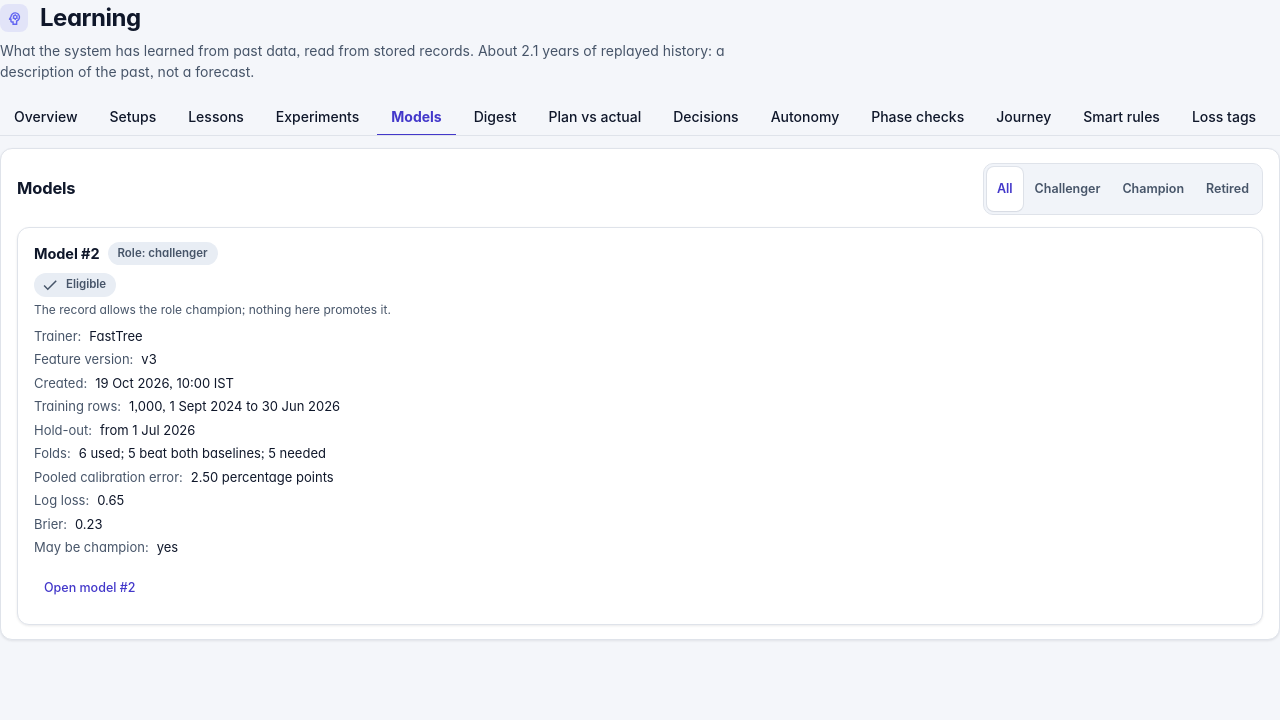
Scenario: Learning, Models tab › opens a model: report, labelled calibration map, importance, designations and limits
Click the button "Open model #2" at (90, 588), box top-left (34, 566), bottom-right (145, 610)
(page scrolled)
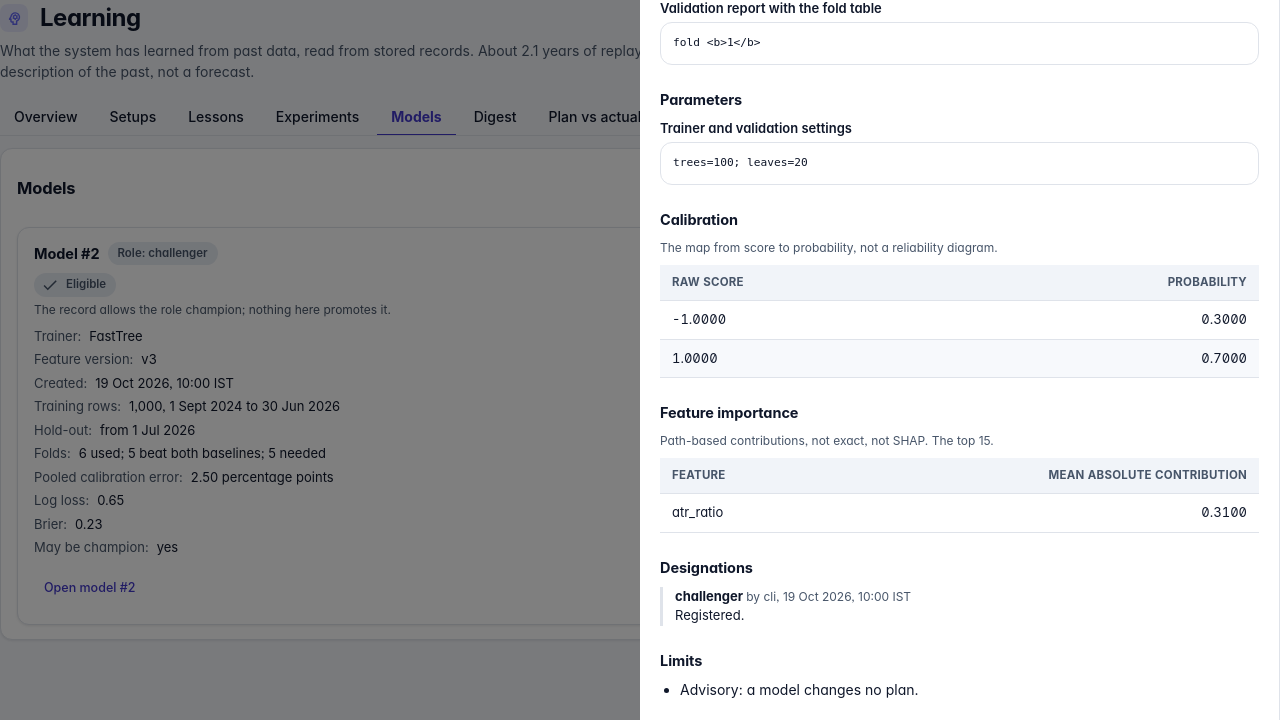
Expected: the text "The map from score to probability, not a reliability diagram" is shown, top-left (660, 240), bottom-right (998, 255)
Expected: the table named "Calibration map" is shown, top-left (660, 265), bottom-right (1259, 378)
Expected: the text "Path-based contributions, not exact, not SHAP. The top 15." is shown, top-left (660, 433), bottom-right (994, 448)
